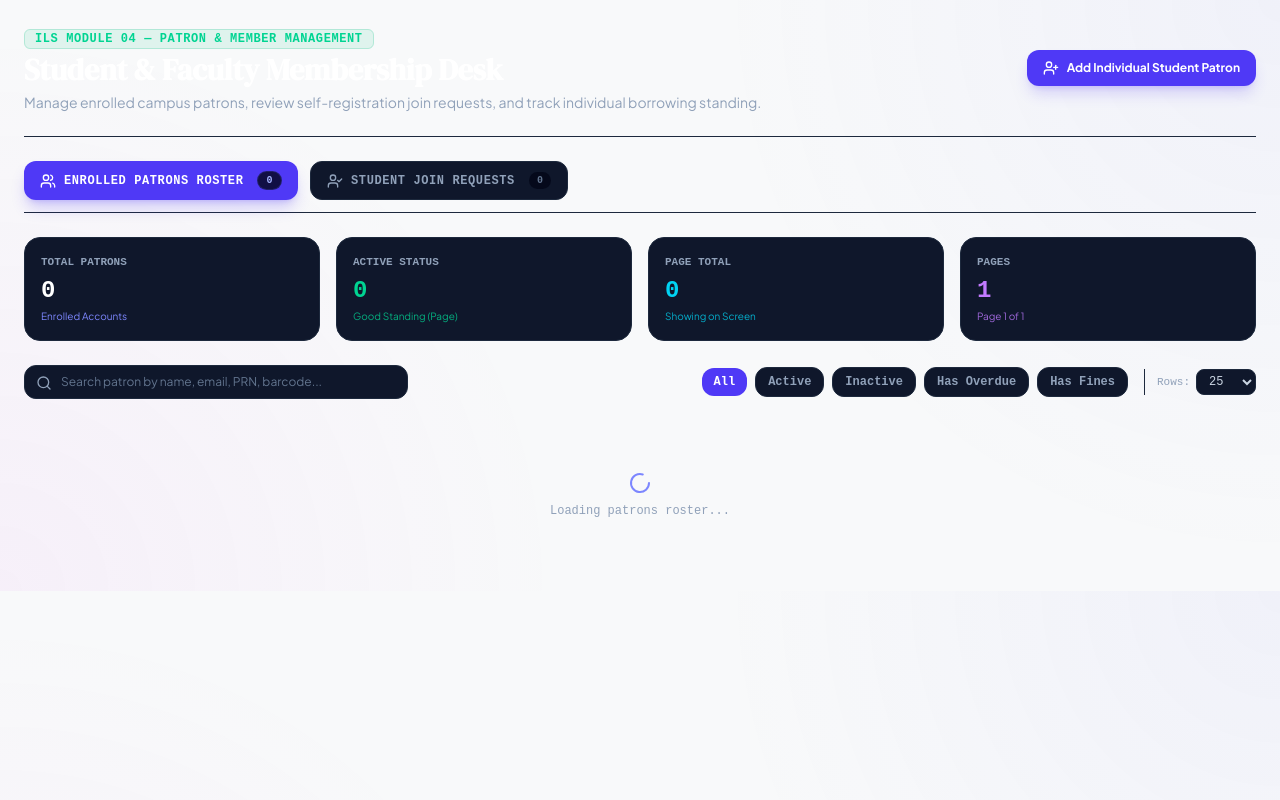
Test: PatronsDesk - Student Join Requests Feature Suite › 2. switches to Student Join Requests tab and displays pending join requests
The image size is (1280, 800).
Click the button "Student Join Requests 0". click: (439, 181)
box: [310,161,568,200]
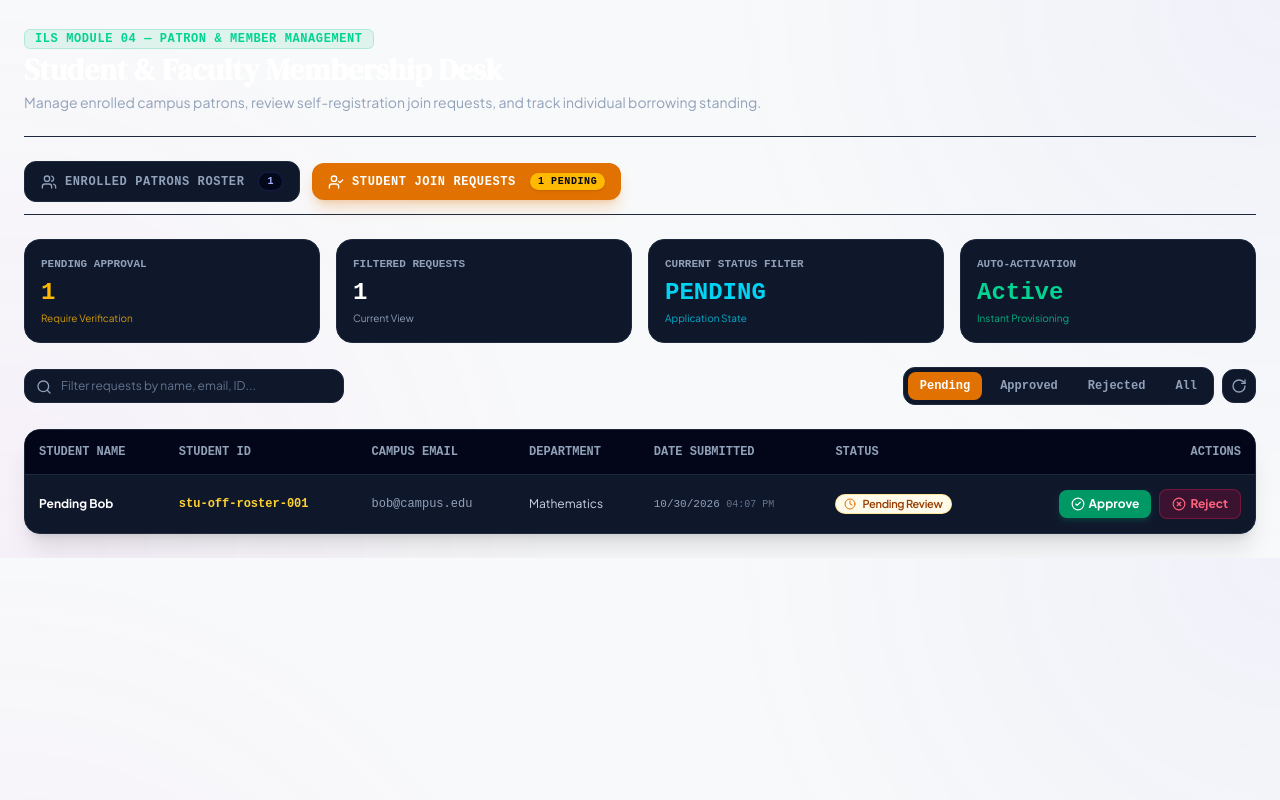
Check: the text "Pending Bob" is shown, box [39,496,113,511]
Check: the text "stu-off-roster-001" is shown, box [165,474,358,533]
Check: the text "bob@campus.edu" is shown, box [358,474,515,533]
